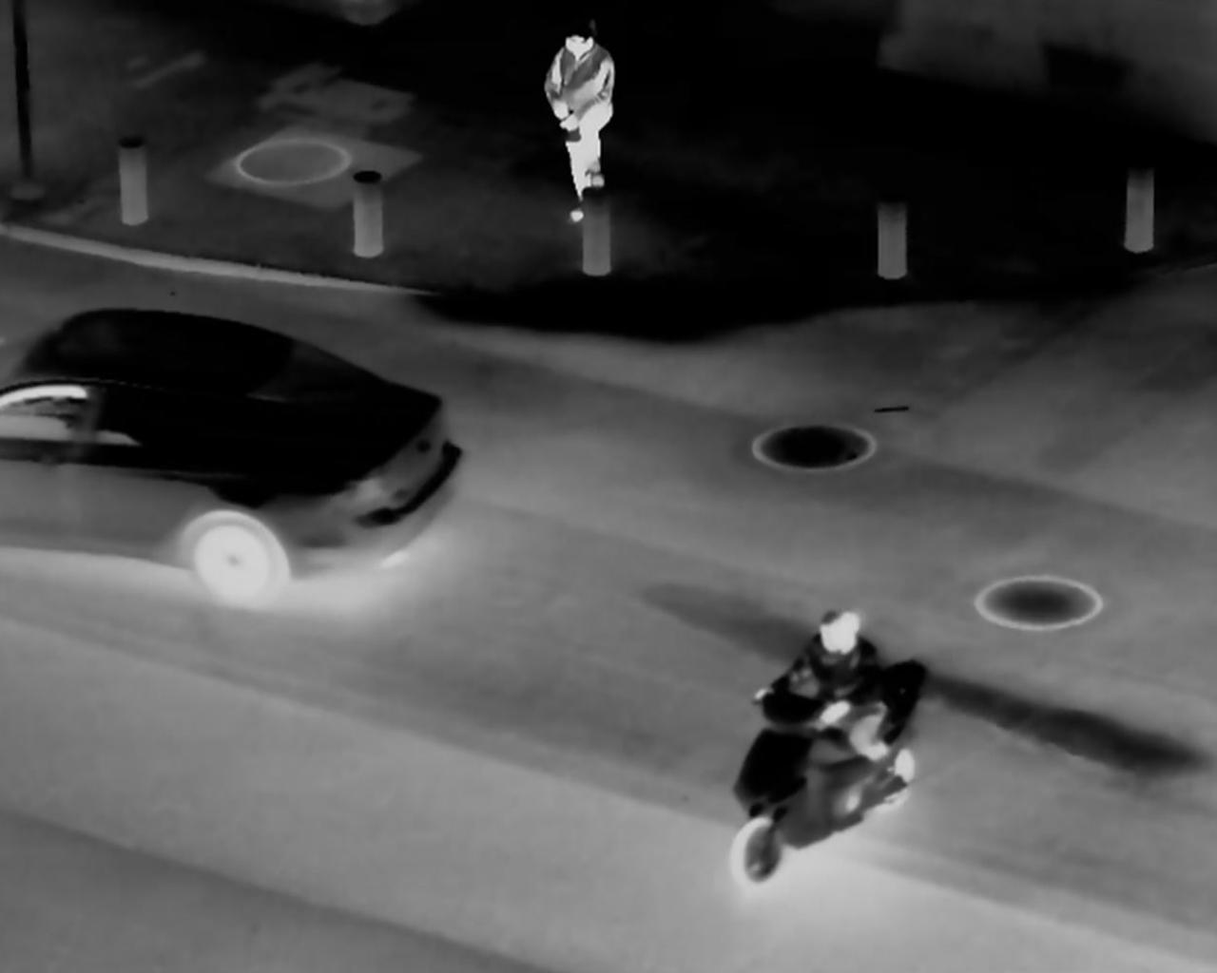person: (773, 593, 912, 819), (533, 18, 643, 246)
